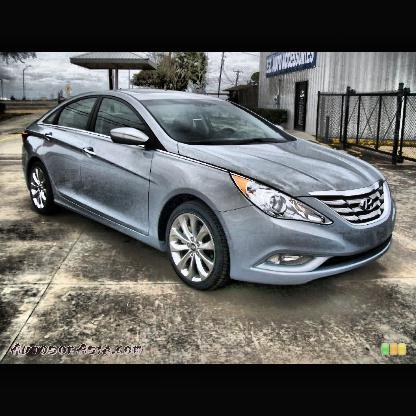Hyundai Sonata Sedan 2012: (20, 89, 396, 292)
